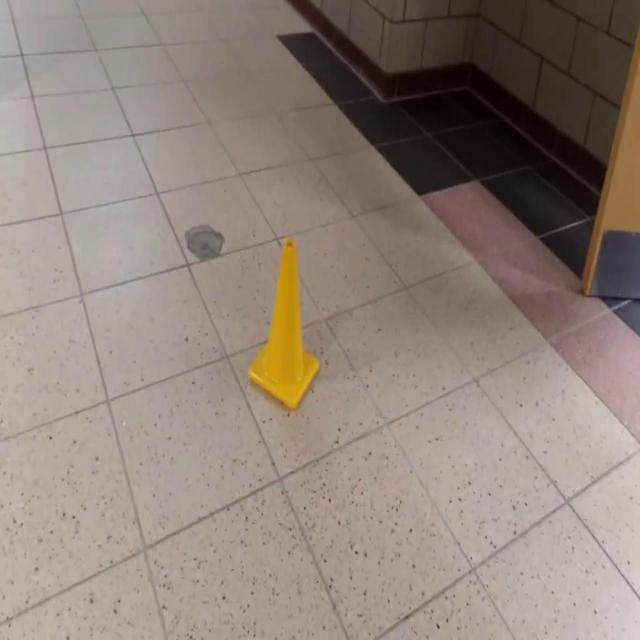frc_cone: (246, 236, 320, 414)
